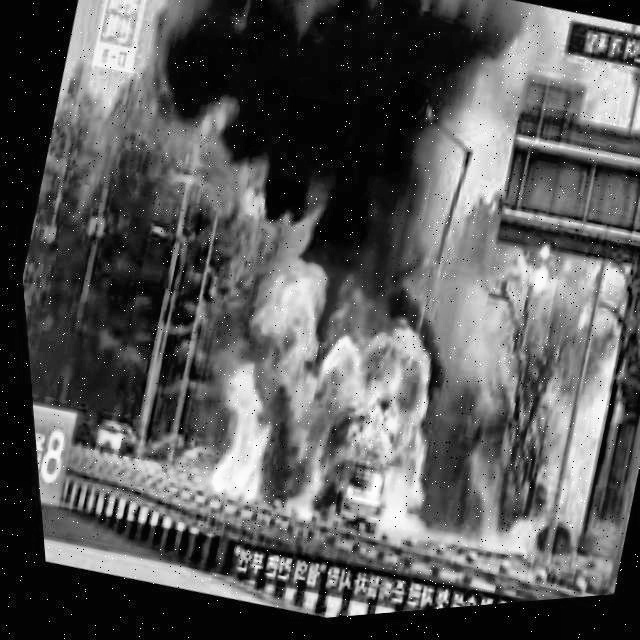Fire: (196, 292, 449, 548), (529, 457, 589, 534)
Smoke: (95, 0, 547, 348)
